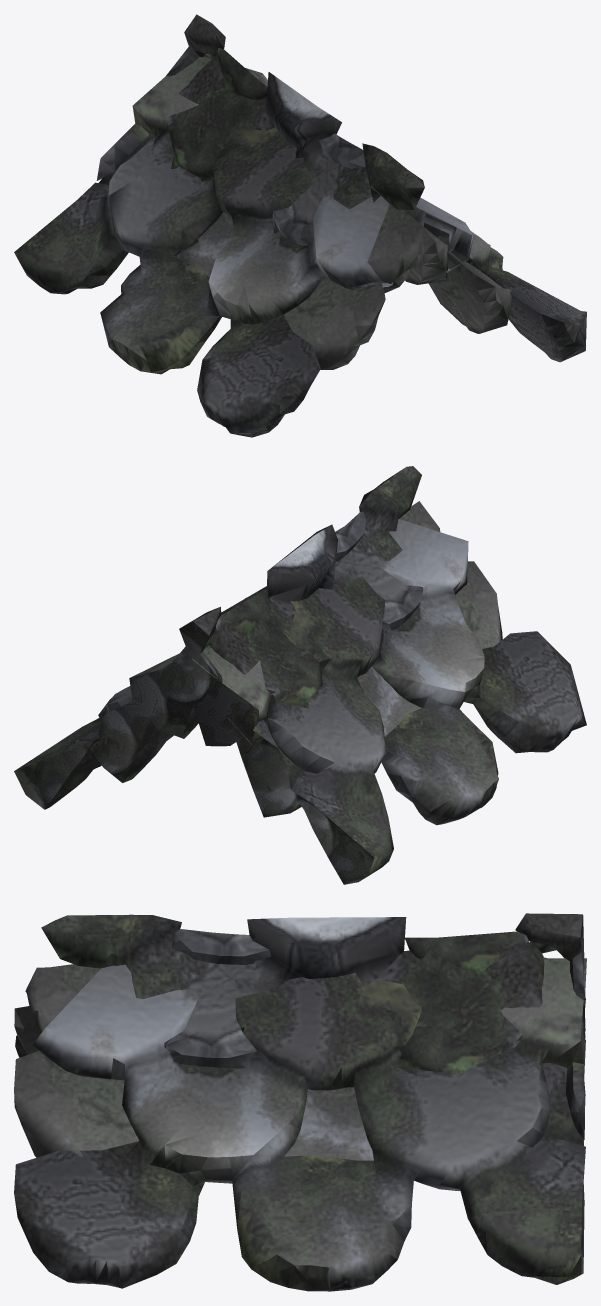
File: SM_Roof_Cap_07.fbx
3 views of the same model, one above another, from view 1: azimuth 30°, elevation 25°; view 2: azimuth 150°, elevation 25°; view 3: azimuth 270°, elevation 25° (orthographic). The views are drawn at different scales.
Parts seen in each view (by area): view 1: SM_Roof_Cap_07_LOD0; view 2: SM_Roof_Cap_07_LOD0; view 3: SM_Roof_Cap_07_LOD0.
Part boxes in pixels (x1,y1,x2,y2): SM_Roof_Cap_07_LOD0: (14, 14, 586, 437); SM_Roof_Cap_07_LOD0: (14, 466, 586, 884); SM_Roof_Cap_07_LOD0: (14, 913, 586, 1291).
Size of the model in its own units: 89.48 by 97.55 by 53.33.
